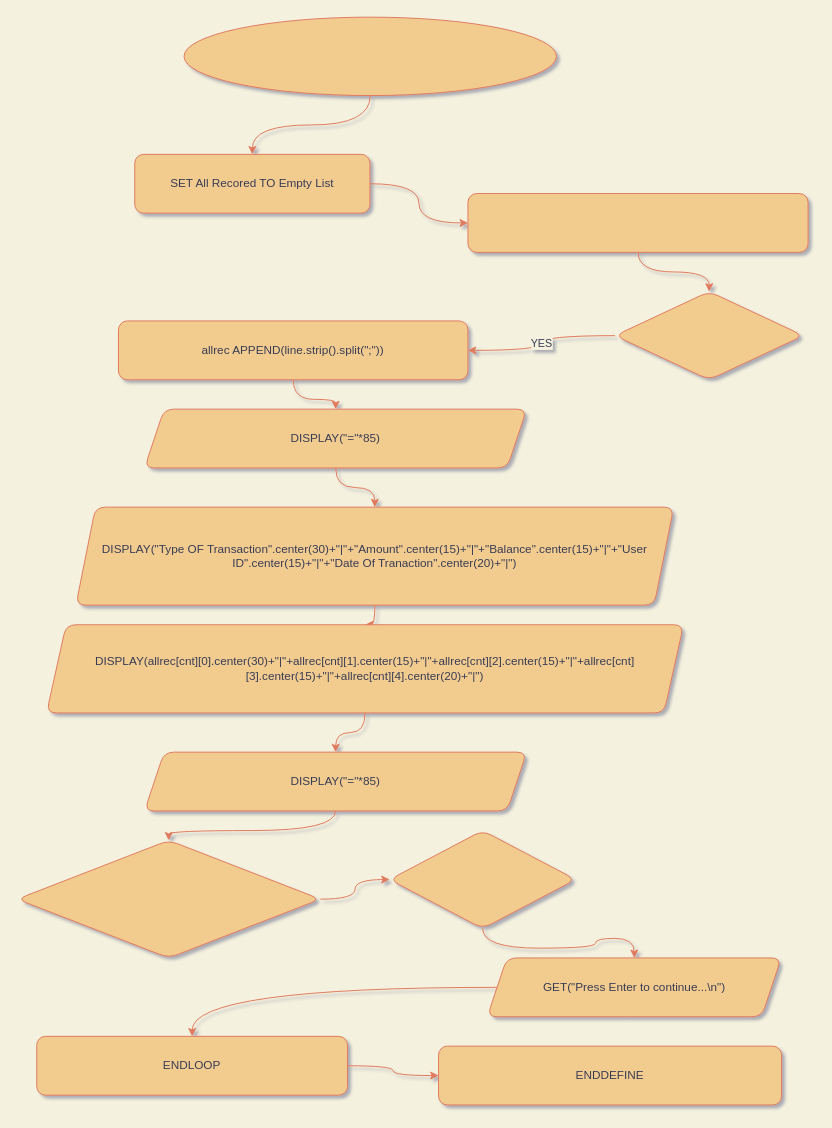
Some shapes in this 832 by 1128 pixel diagram are drawn without their labels. Here are the shapes that lost their labels. From the top down, the box of each, then its label:
(183, 16, 556, 96): DEFINE Report(login_Details)
(467, 193, 808, 252): WITH OPEN("Transaction.txt","r") as FILE HANDLE
(614, 291, 803, 380): LOOP line IN FILE HANDLE
(16, 839, 320, 958): LOOP cnt IN RANGE(0,LENGTH(allrec))
(389, 830, 576, 929): IF (login_Details[0] EQUALS allrec[cnt][0])
